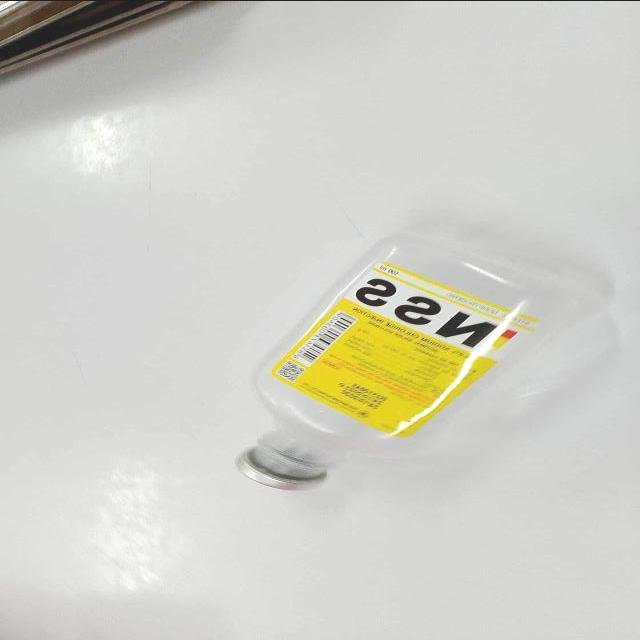Sharps: (231, 230, 542, 493), (0, 0, 198, 75)
